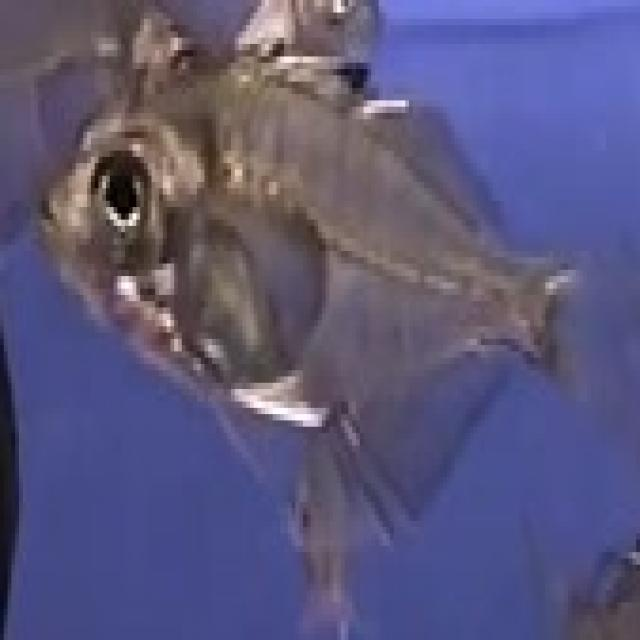Glass-Perchlet: (2, 0, 640, 482)
